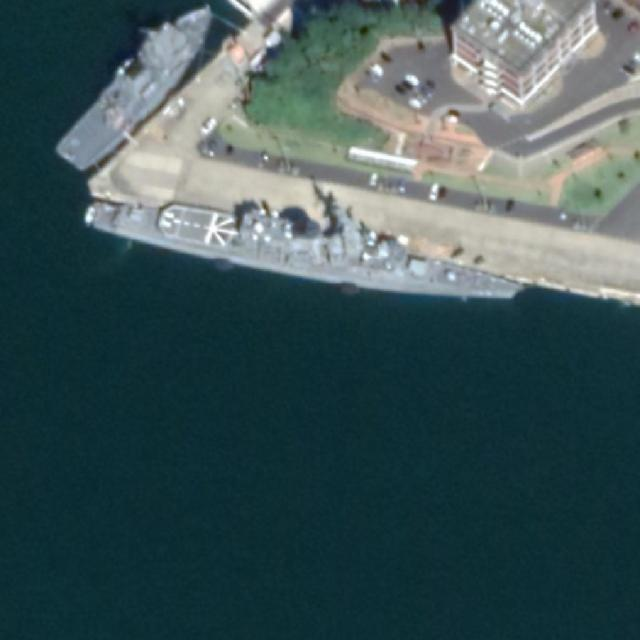Destroyer: (83, 179, 523, 317)
Other Warship: (43, 1, 223, 184)
